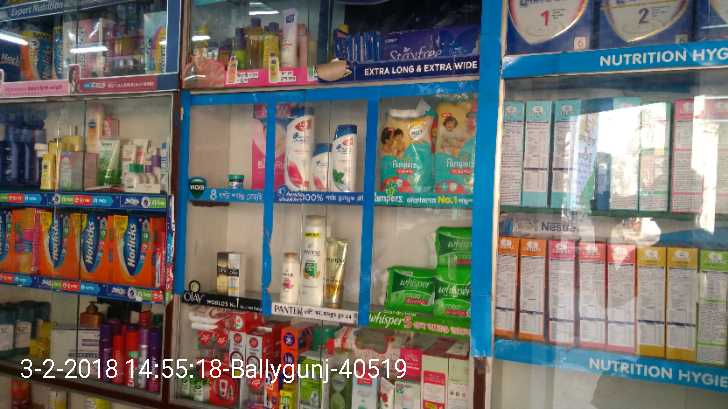vicks: (226, 172, 249, 193)
